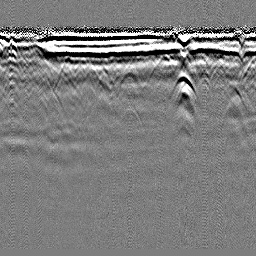cavity: (119, 68, 138, 87)
